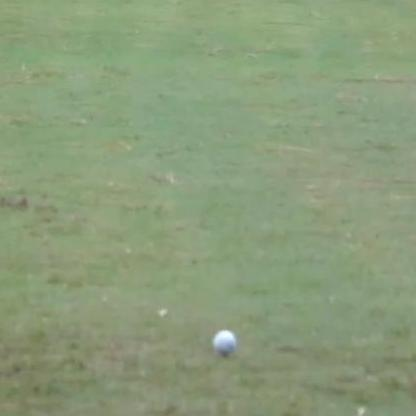golfball: (208, 327, 236, 352)
